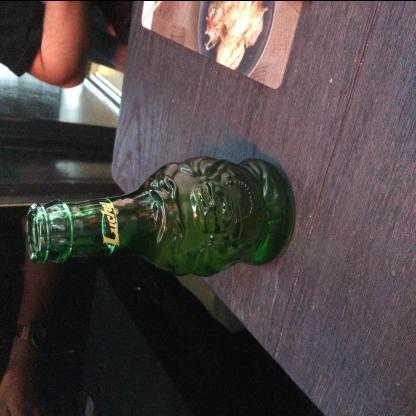cam: (24, 153, 300, 279)
